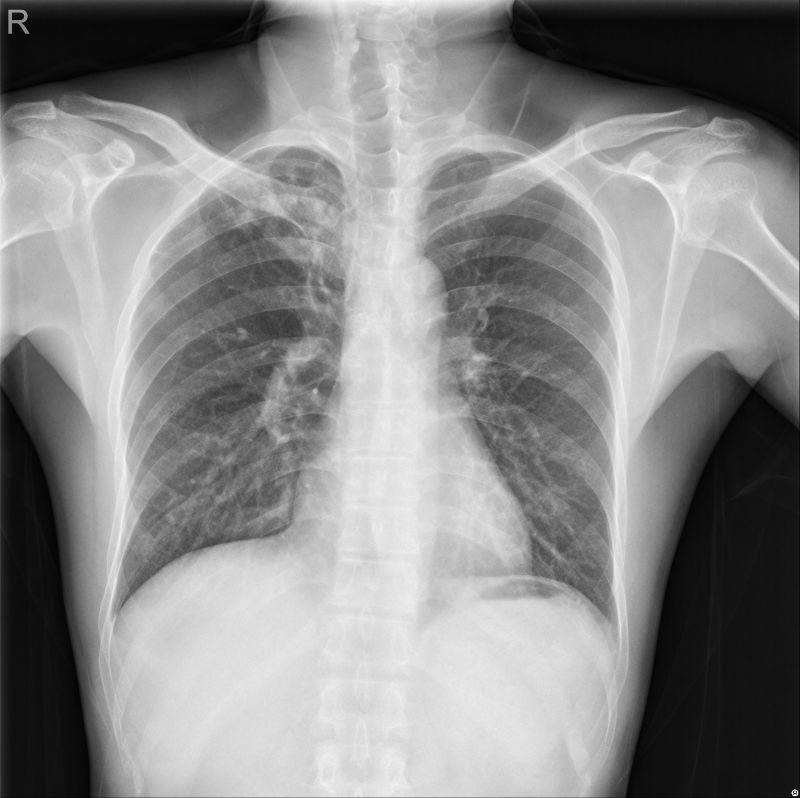Tuberculosis: (223, 172, 339, 273)
